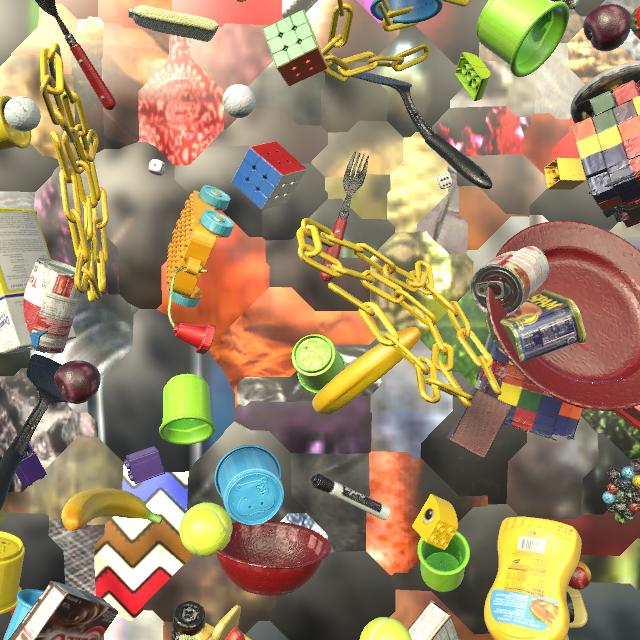ycb_004_sugar_box: (0, 208, 76, 354)
ycb_005_tomato_soup_can: (23, 257, 83, 354), (470, 246, 549, 316)
ycb_006_mustard_bottle: (484, 517, 582, 640)
ycb_008_pudding_box: (8, 581, 119, 640), (408, 600, 460, 640), (603, 378, 640, 431)
ycb_010_potted_meat_can: (485, 290, 586, 363)
ycb_011_banana: (312, 327, 421, 415), (61, 488, 163, 531)
ycb_012_strawberry: (631, 6, 640, 39)
ycb_018_plum: (583, 4, 632, 52), (54, 360, 101, 404)
